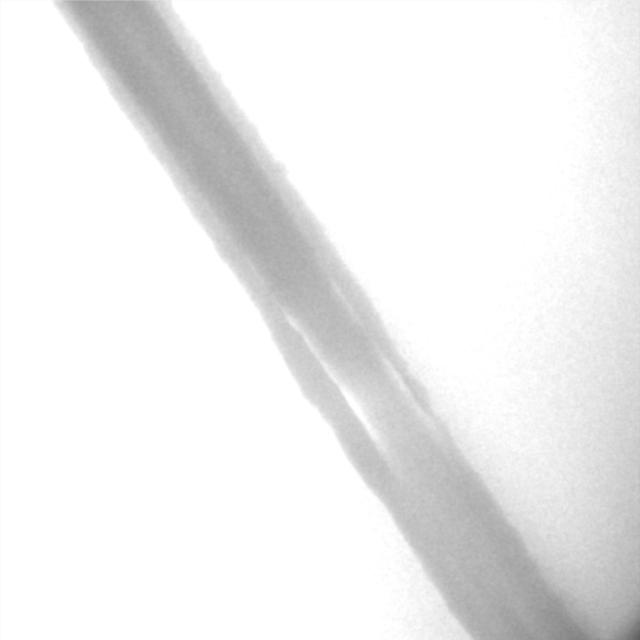unfused: (288, 278, 428, 462)
